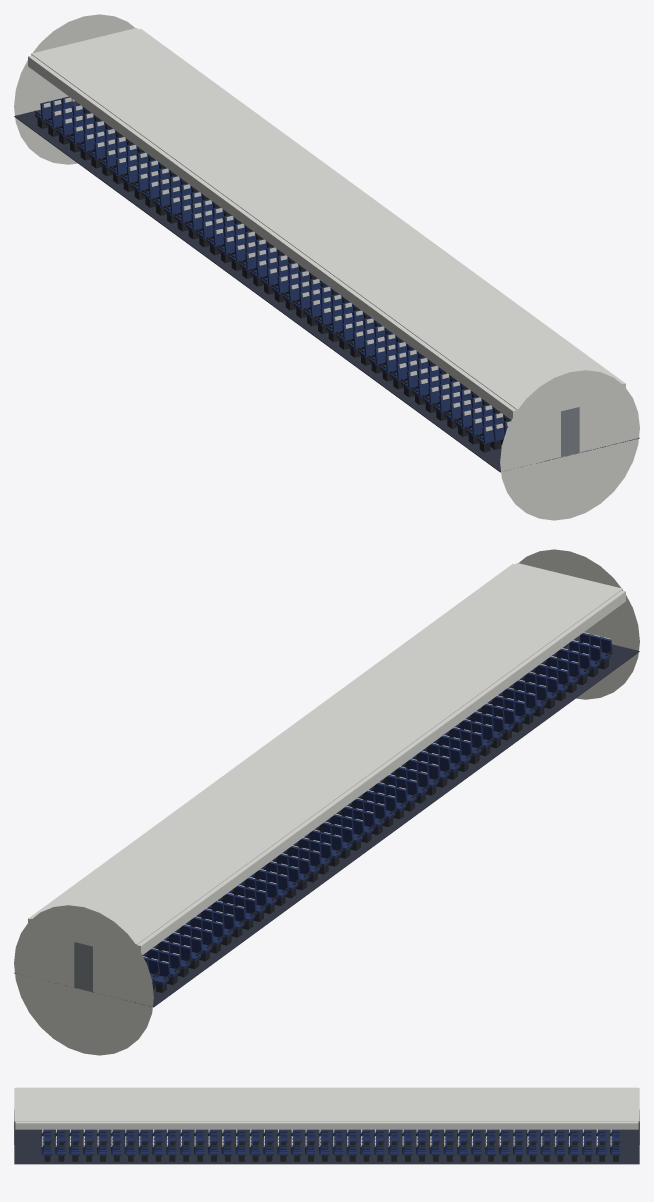
File: lat_heavy_cabin.dae
The picture shows the model from 3 angles, top to bottom: view 1: azimuth 30°, elevation 25°; view 2: azimuth 150°, elevation 25°; view 3: azimuth 270°, elevation 25°; orthographic projection. The views are drawn at different scales.
Visible parts, largest first — view 1: lat_heavy_cabin64; view 2: lat_heavy_cabin64; view 3: lat_heavy_cabin64.
Boxes of the visible parts, left/top/right/bottom form: lat_heavy_cabin64: left=14, top=14, right=639, bottom=520; lat_heavy_cabin64: left=14, top=549, right=639, bottom=1055; lat_heavy_cabin64: left=14, top=1087, right=639, bottom=1164.
Size of the model in its own units: 6.07 by 36.57 by 6.07.
